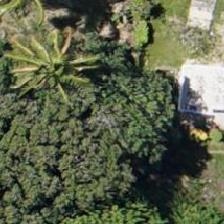coconut_tree: (0, 18, 89, 108)
